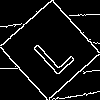L: (25, 25, 76, 77)
